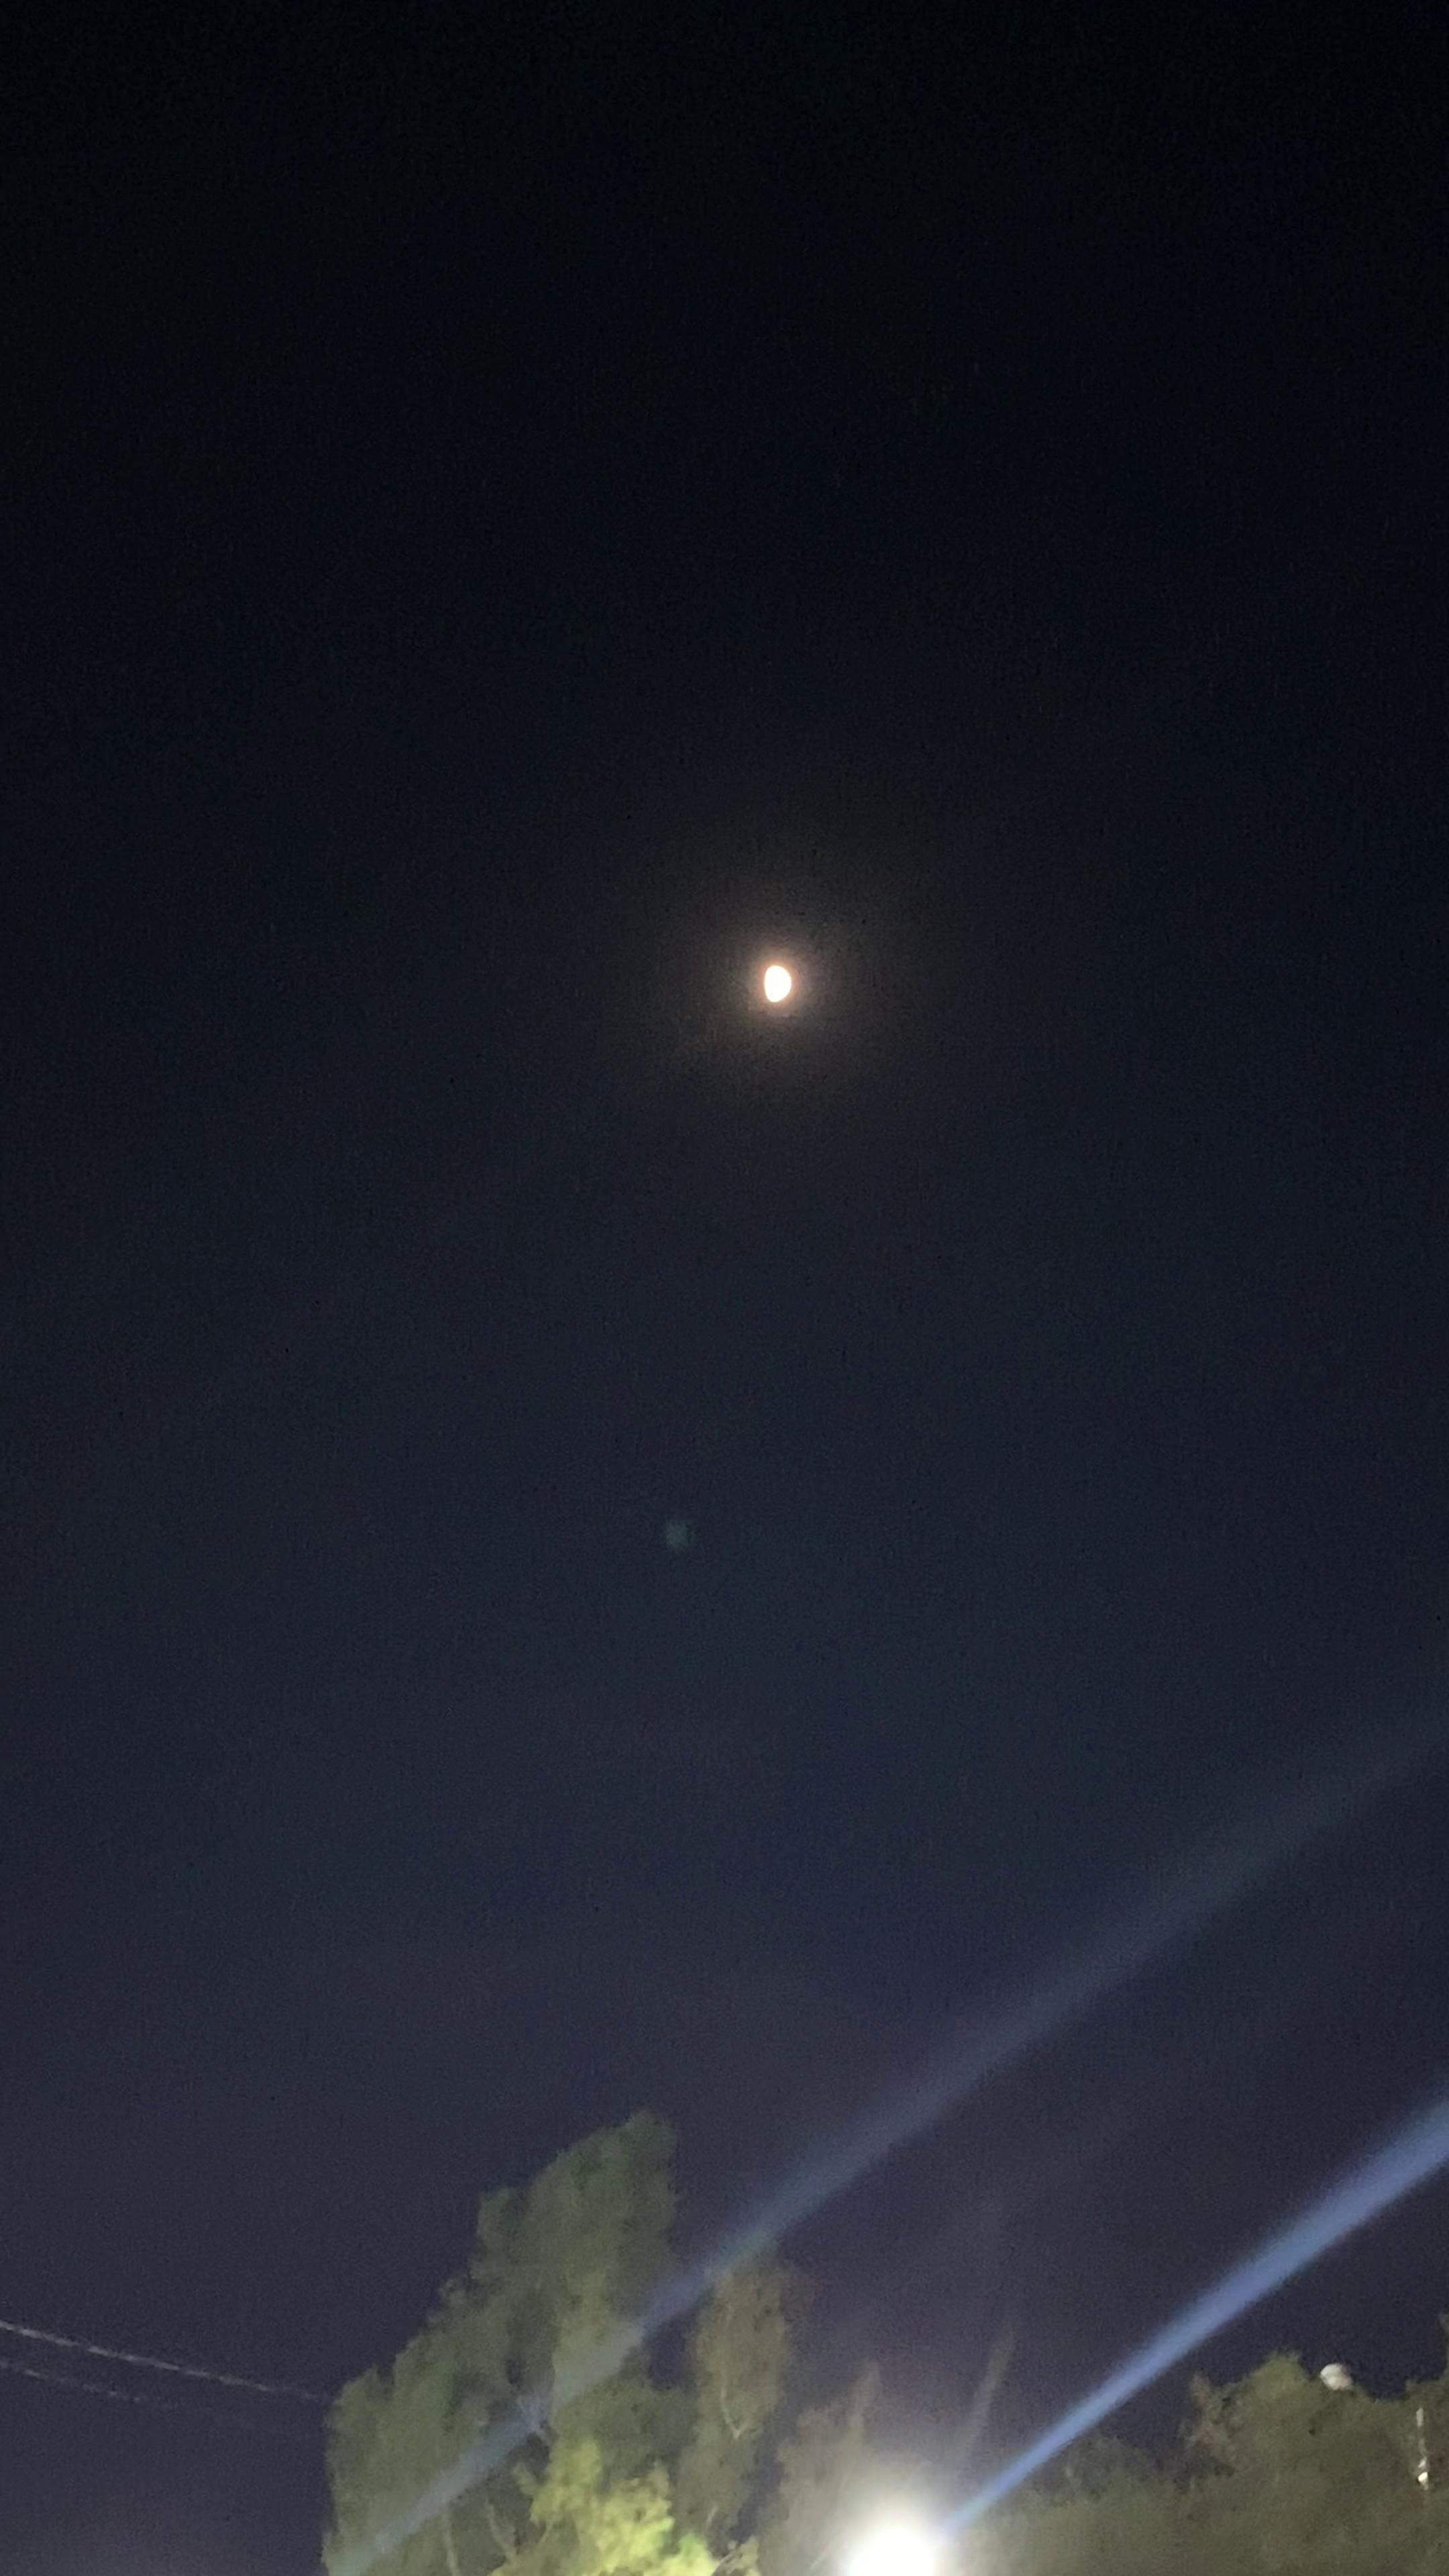moon: (718, 931, 819, 1049)
